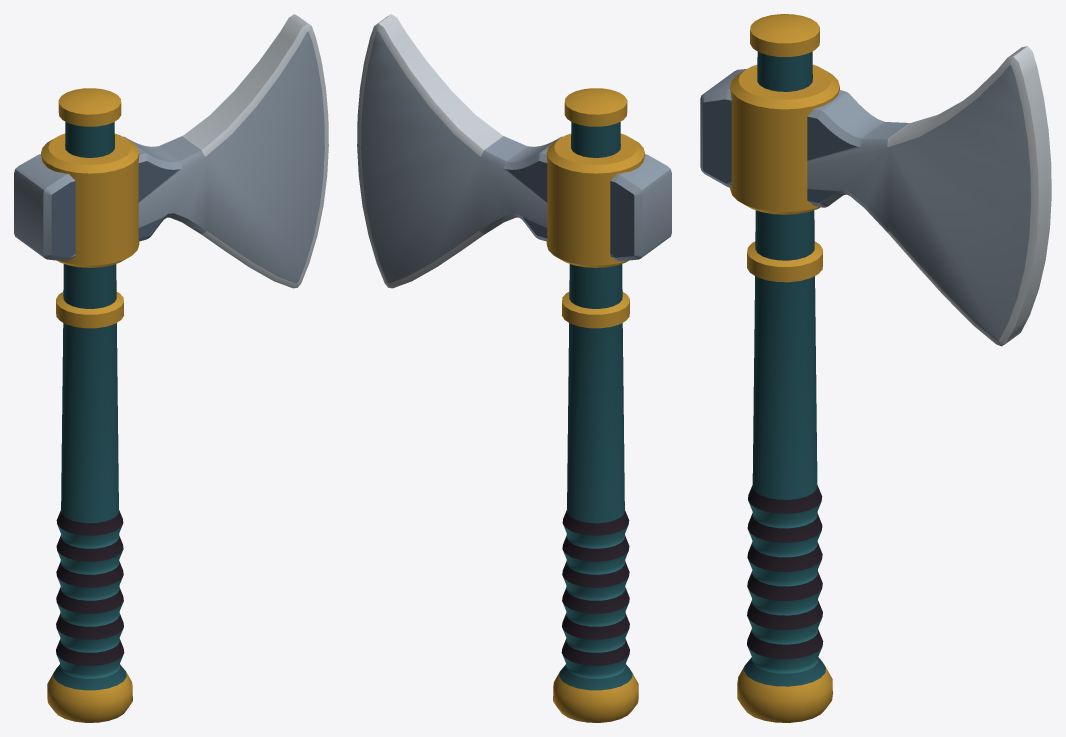
File: Axe_04.glb
3 views of the same model, side by side, from view 1: azimuth 30°, elevation 25°; view 2: azimuth 150°, elevation 25°; view 3: azimuth 330°, elevation 25° (orthographic). The views are drawn at different scales.
Visible parts, largest first — view 1: Axe_04; view 2: Axe_04; view 3: Axe_04.
Part boxes in pixels (<box>): Axe_04: <box>14,14,328,722</box>; Axe_04: <box>357,14,671,722</box>; Axe_04: <box>700,14,1051,722</box>.
Bounding box in the file's own units: 2.27 × 4.71 × 0.658.
